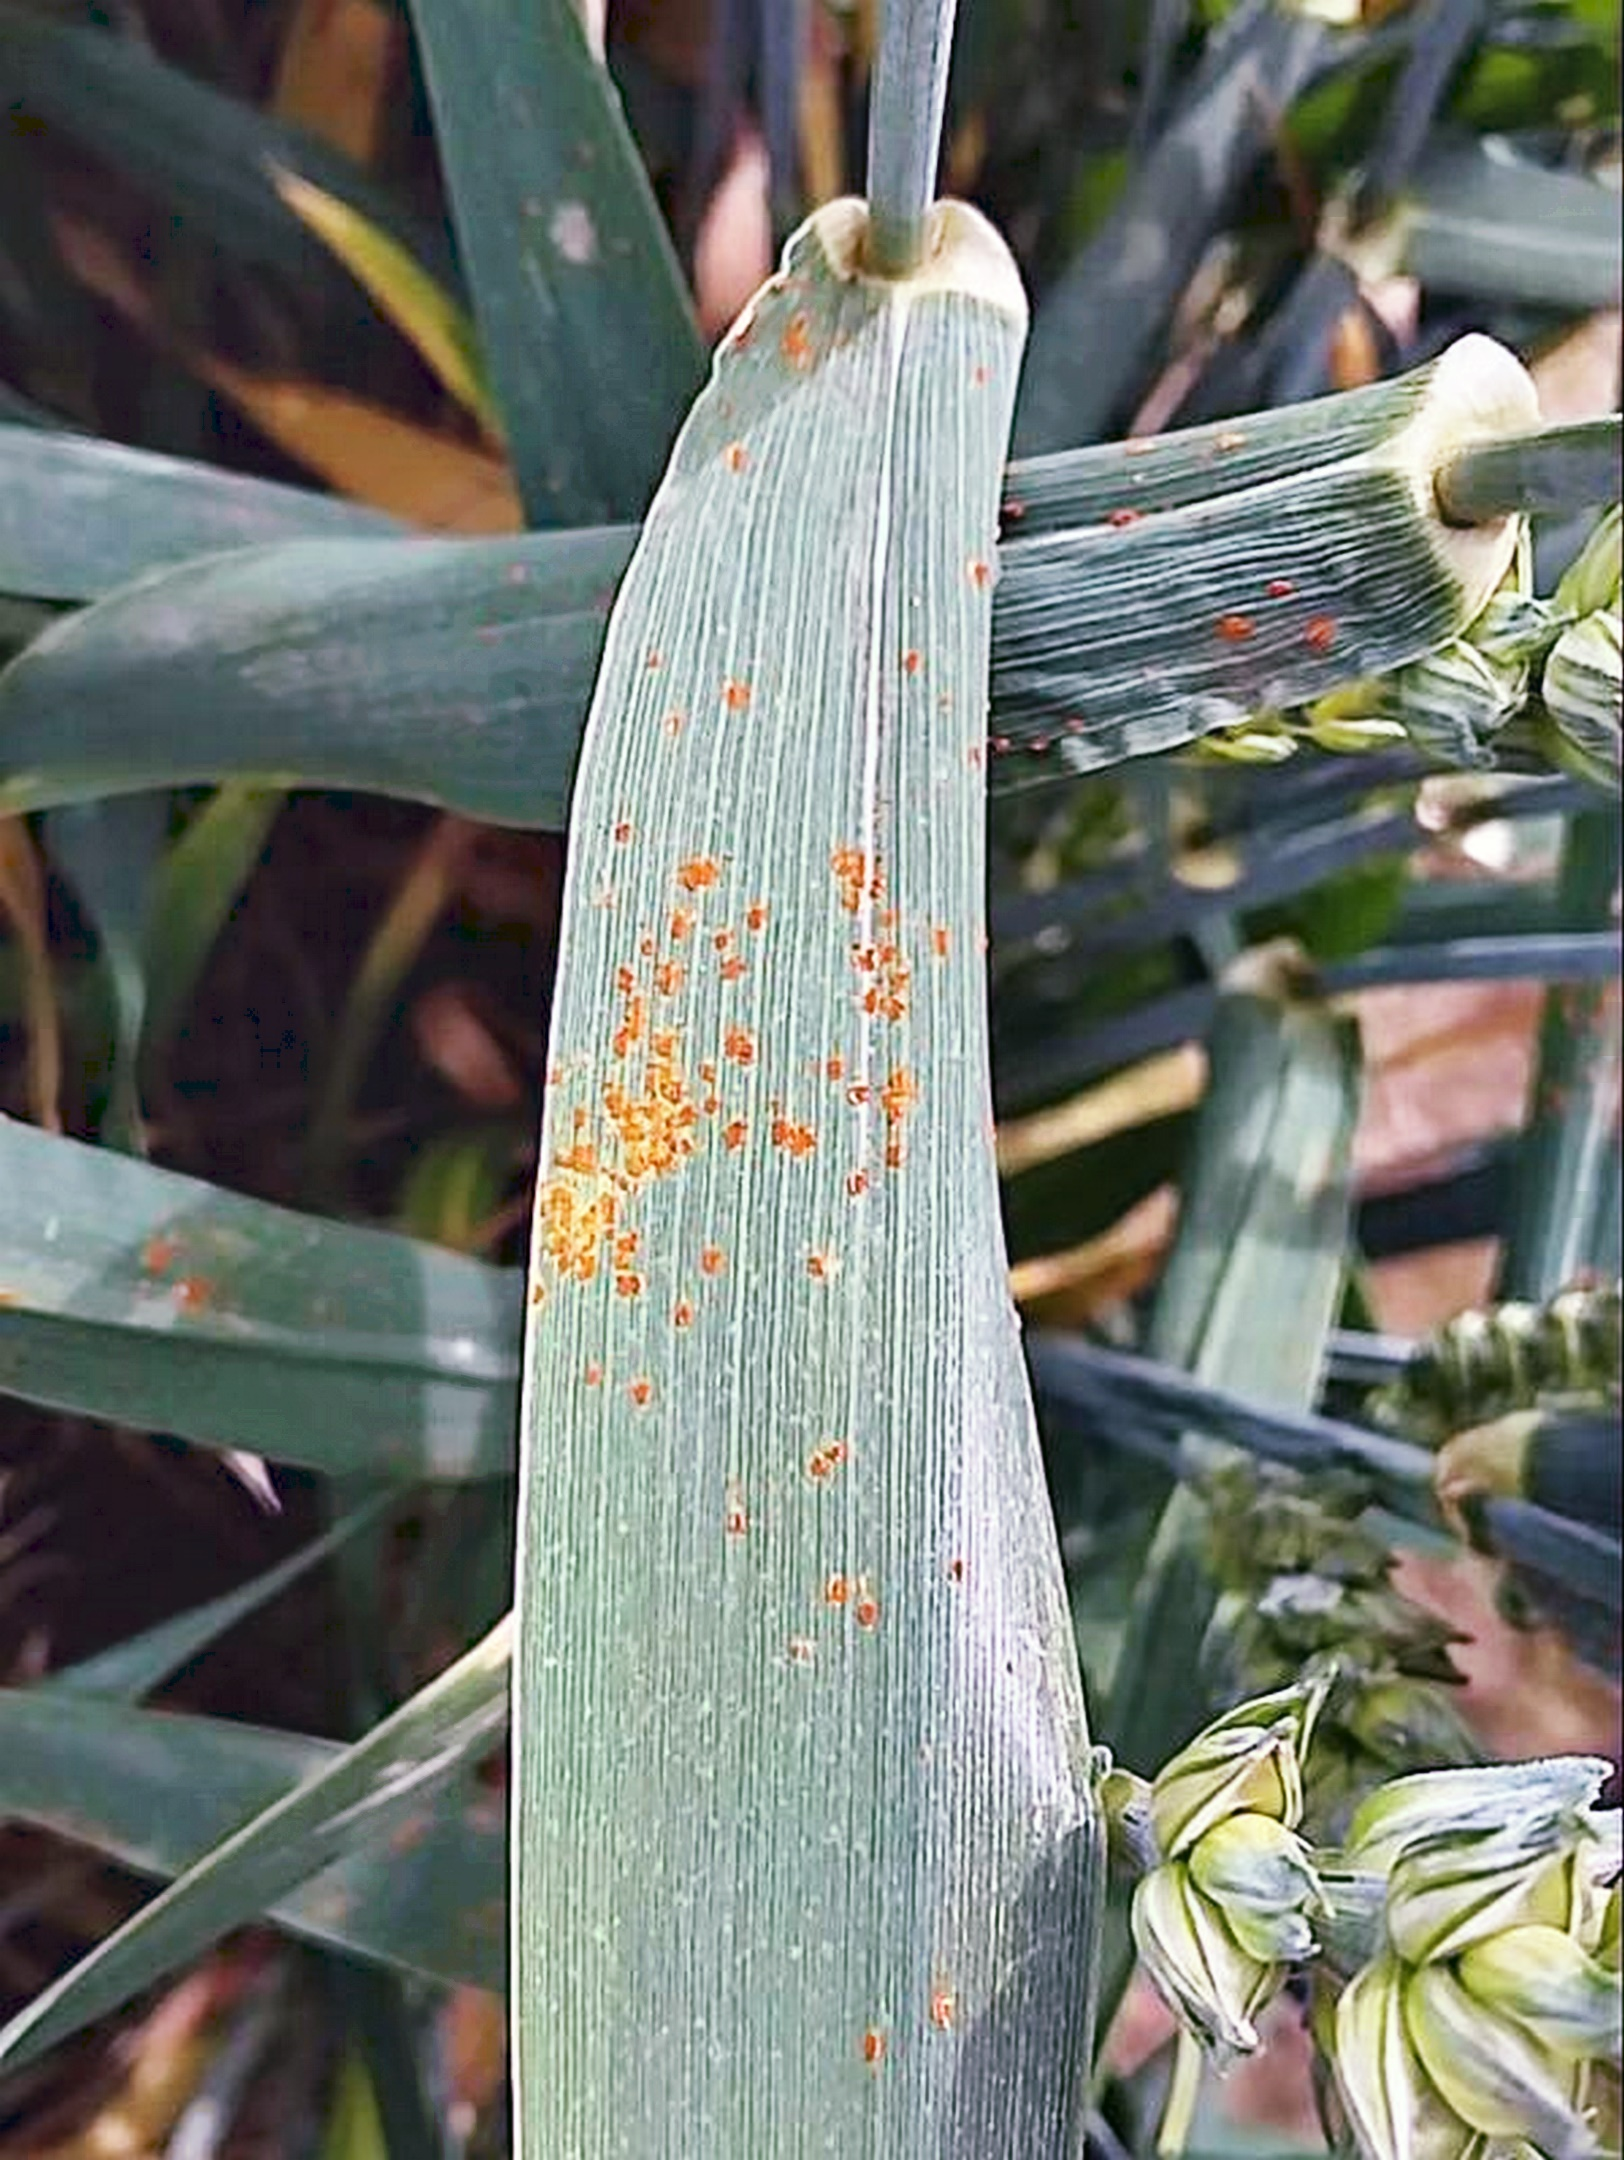Leaf Rust: (454, 746, 1078, 1380)
